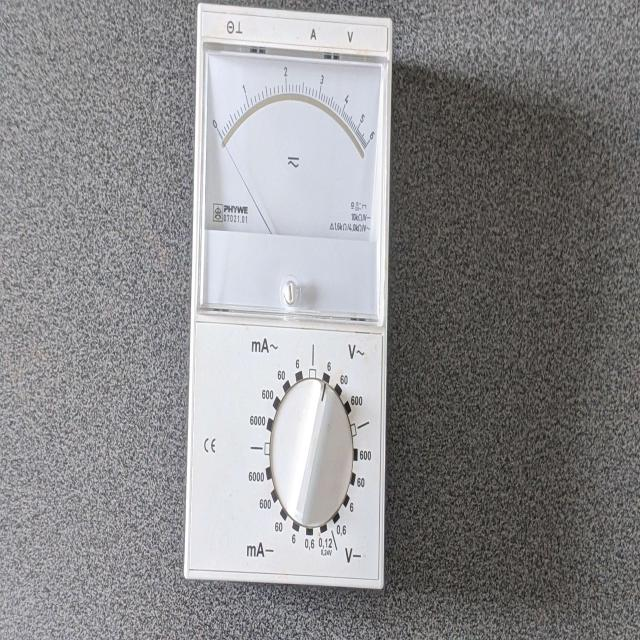Analog Multimeter: (178, 0, 398, 602)
